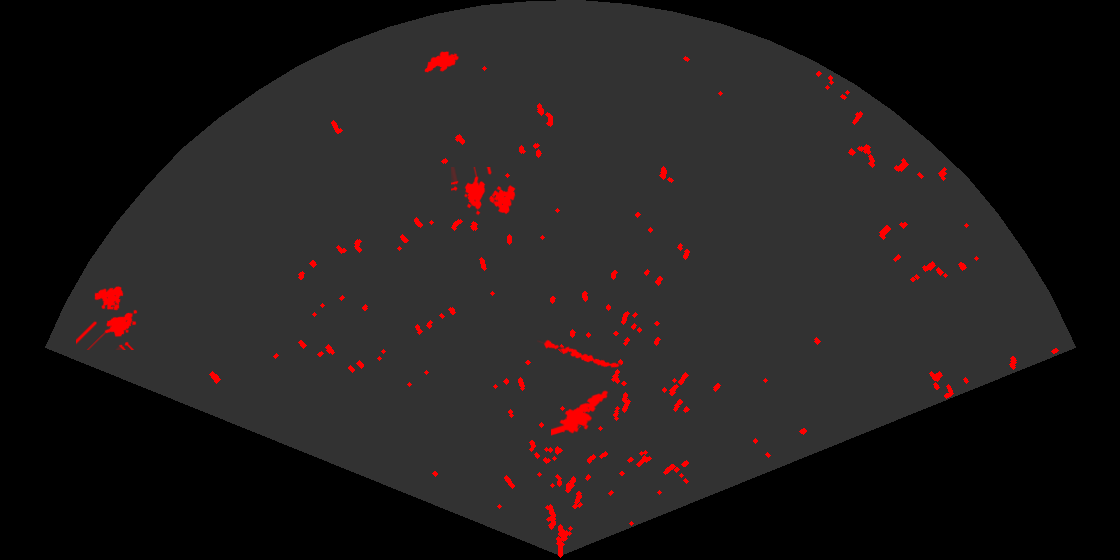AUV: (423, 50, 461, 74)
cage: (76, 285, 139, 350), (451, 167, 517, 217)
chain: (537, 338, 621, 369)
frogman: (551, 389, 611, 437)
